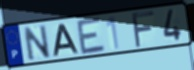1: (106, 16, 121, 50)
4: (162, 8, 184, 43)
A: (52, 23, 81, 57)
E: (75, 15, 107, 56)
F: (130, 10, 156, 50)
N: (22, 23, 52, 62)
